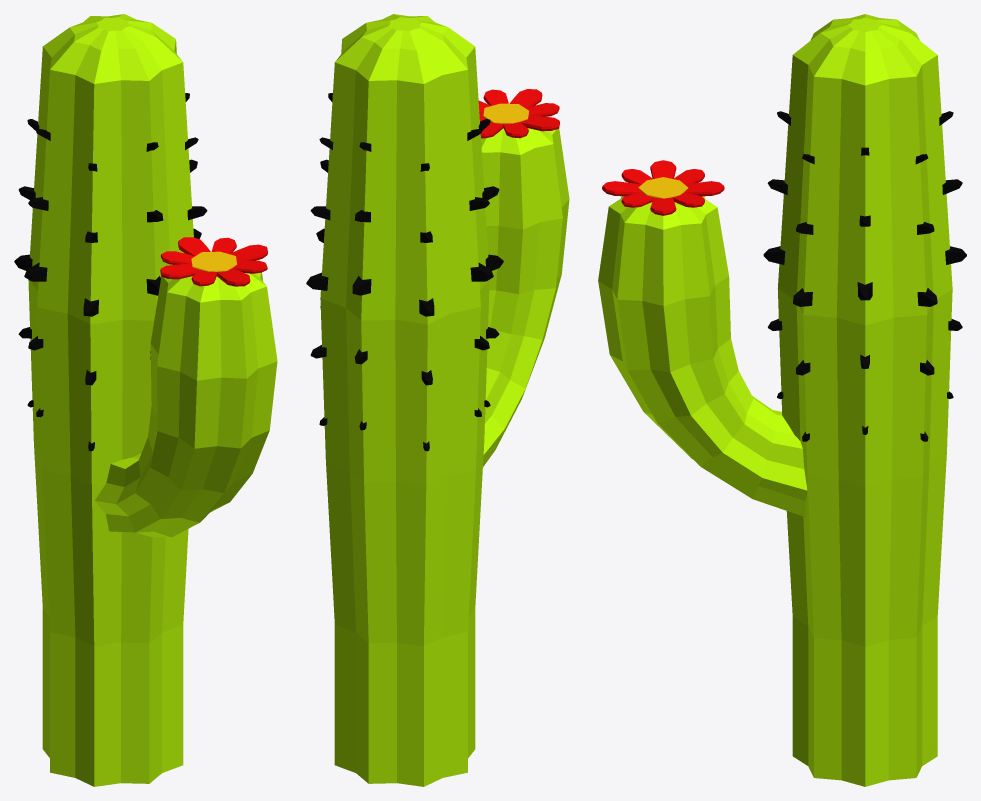
The model's file is Cardon04_01Brazos_Flor_Roja.fbx.
3 views of the same model, side by side, from view 1: azimuth 30°, elevation 25°; view 2: azimuth 150°, elevation 25°; view 3: azimuth 270°, elevation 25° (orthographic).
Parts seen in each view (by area): view 1: Cactus, Flor_Roja, Espinas; view 2: Cactus, Espinas, Flor_Roja; view 3: Cactus, Espinas, Flor_Roja.
Boxes of the visible parts, box(x1,y1,x2,y2) form: Cactus: box(28, 14, 277, 786); Flor_Roja: box(160, 237, 267, 286); Espinas: box(14, 93, 207, 451); Cactus: box(320, 14, 569, 786); Espinas: box(306, 93, 503, 451); Flor_Roja: box(478, 89, 559, 138); Cactus: box(598, 14, 952, 786); Espinas: box(763, 111, 966, 441); Flor_Roja: box(602, 160, 724, 215).
Bounding box in the file's own units: 53.18 × 211 × 96.46.
